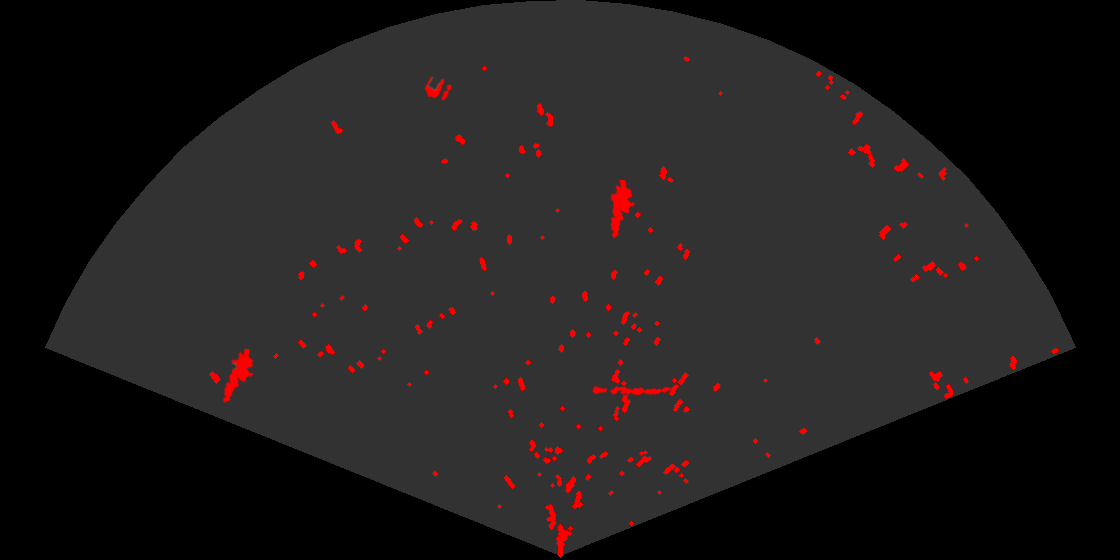ball: (423, 75, 453, 102)
chain: (590, 384, 671, 397)
frogman: (222, 349, 255, 404), (609, 180, 637, 240)
